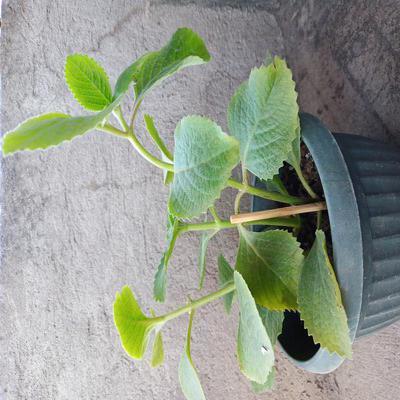Oregano: (16, 67, 345, 383)
